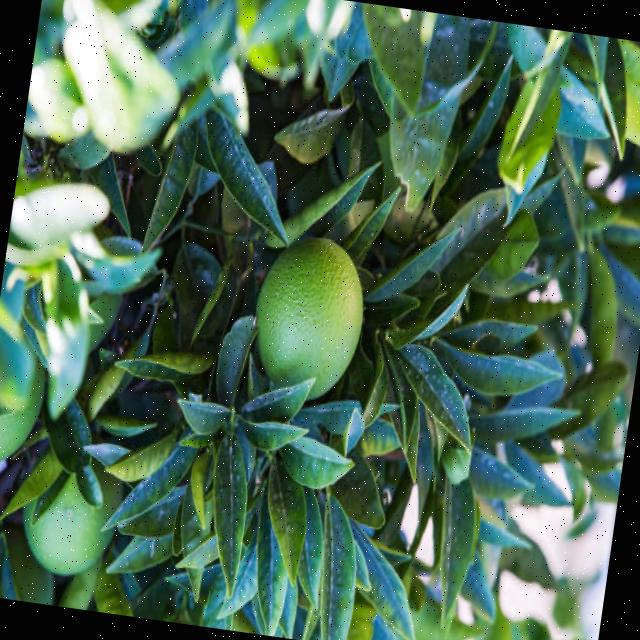Unripe: (250, 232, 374, 404)
